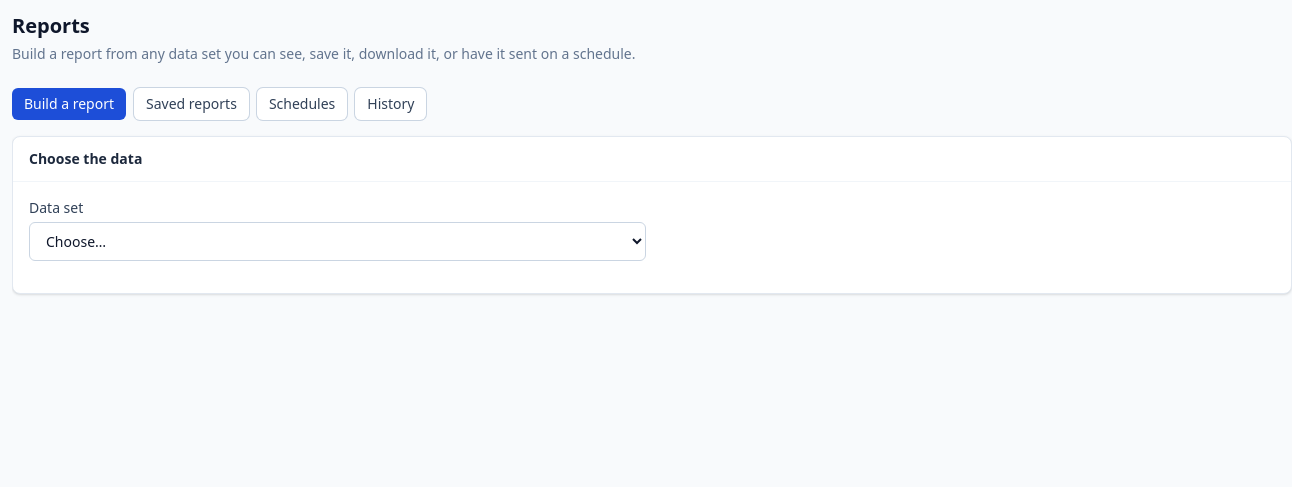
Scenario: Saved reports and schedules › runs a saved report, archives it, and shows a refusal
The width and height of the screenshot is (1292, 487).
Click the tab "Saved reports".
click(191, 104)  # box [134,88,249,120]
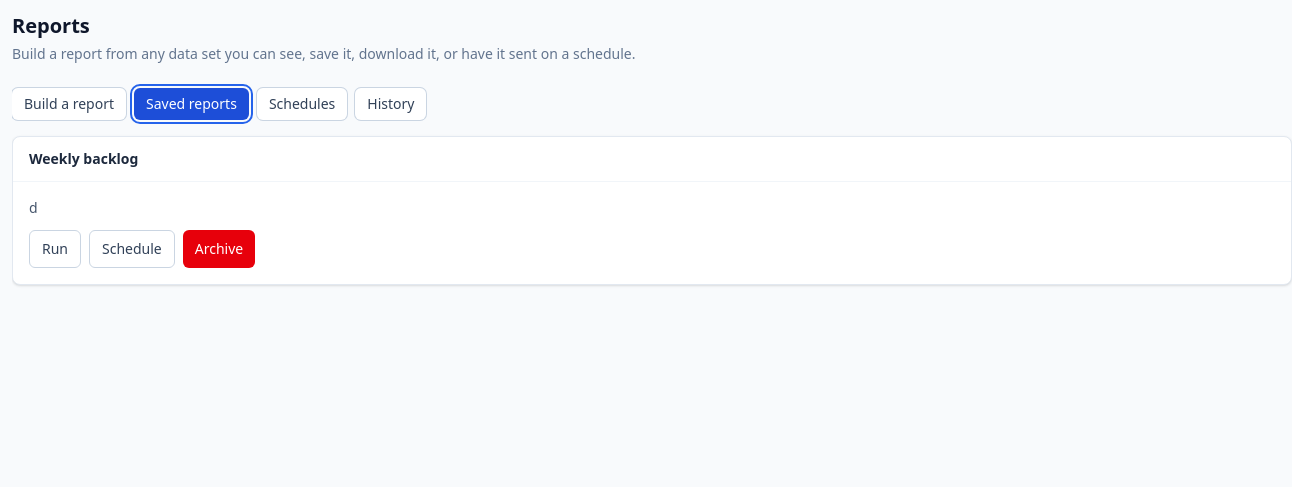
Click the button with aria-label "Run Weekly backlog".
click(55, 249)  # box [29,230,81,268]
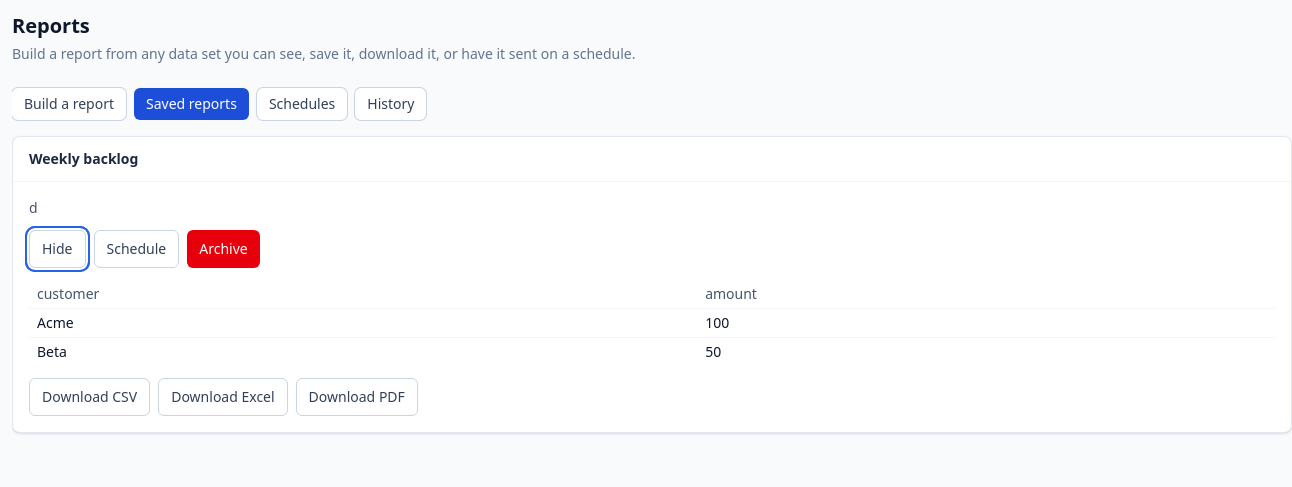
Expected: the text "Beta" is shown, [29,338,697,366]
Expected: the button "Download CSV" is shown, [29,378,150,416]
Click the button with aria-label "Archive Weekly backlog".
click(223, 249)  # box [187,230,260,268]
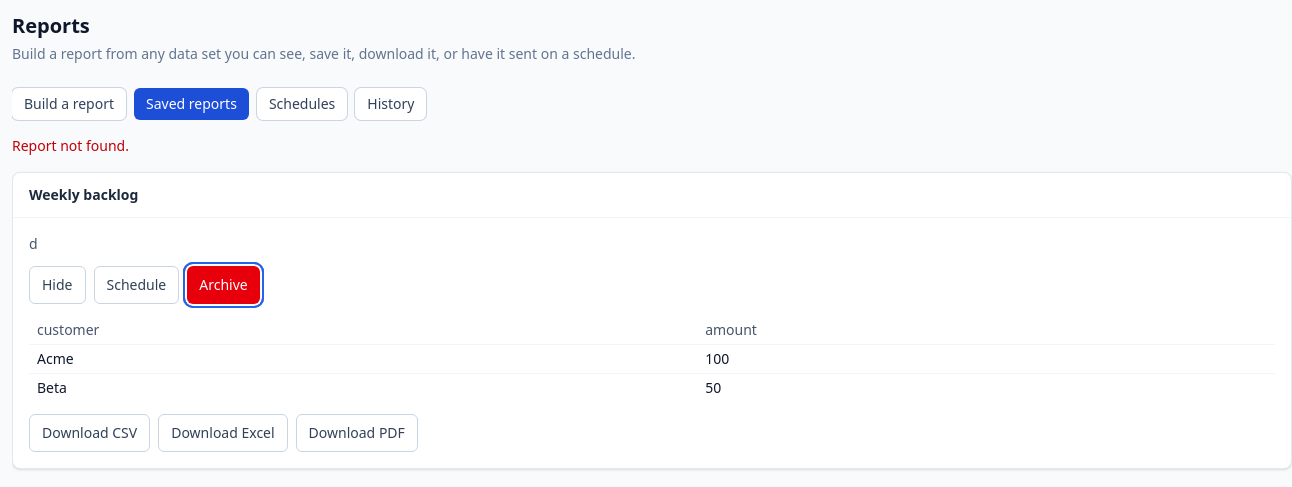
Expected: the text "Report not found." is shown, [12,136,129,155]
